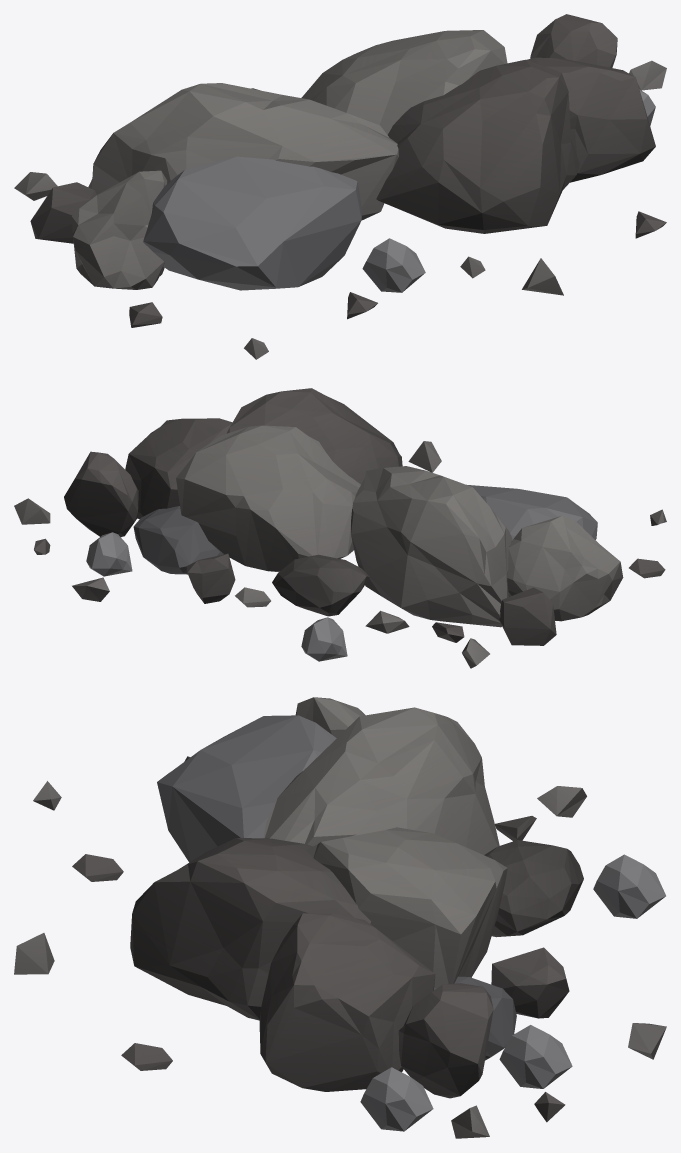
File: ZLPC_Rock_E_2.FBX
3 renders of one model, top to bottom at view 1: azimuth 30°, elevation 25°; view 2: azimuth 150°, elevation 25°; view 3: azimuth 270°, elevation 25°, orthographic. The views are drawn at different scales.
Visible parts, largest first — view 1: ZLPC_Rock_E_2; view 2: ZLPC_Rock_E_2; view 3: ZLPC_Rock_E_2.
Part boxes in pixels (x1,y1,x2,y2): ZLPC_Rock_E_2: (14,14,666,359); ZLPC_Rock_E_2: (14,388,666,668); ZLPC_Rock_E_2: (14,697,666,1138).
Size of the model in its own units: 528 by 114 by 387.
Materials: 1 (1 with a texture image).
